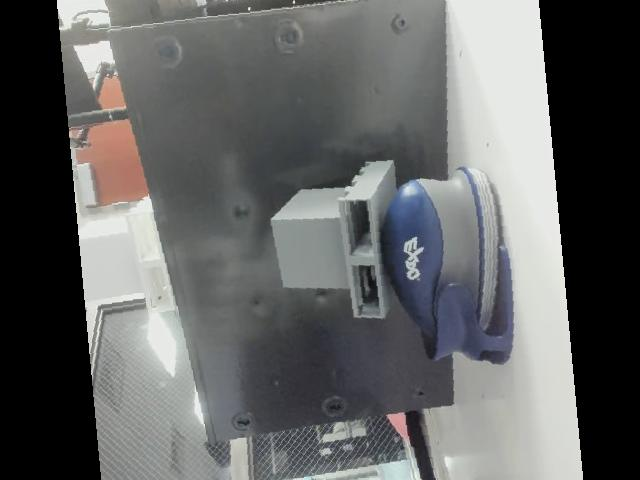grey pallet: (249, 157, 425, 329)
white pallet: (75, 168, 180, 349)
